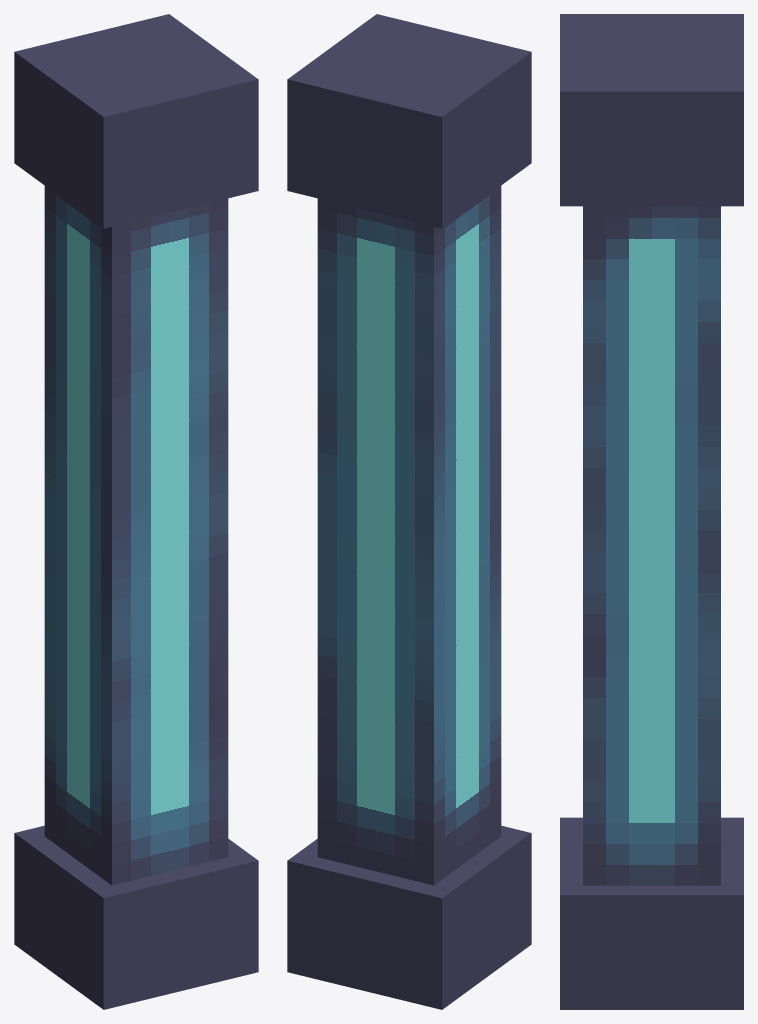
The model's file is columna.gltf.
3 renders of one model, left to right at view 1: azimuth 30°, elevation 25°; view 2: azimuth 150°, elevation 25°; view 3: azimuth 270°, elevation 25°, orthographic. The views are drawn at different scales.
Parts seen in each view (by area): view 1: mesh; view 2: mesh; view 3: mesh.
Part boxes in pixels (bbox=[...]): mesh: bbox=[14, 14, 258, 1009]; mesh: bbox=[287, 14, 531, 1009]; mesh: bbox=[560, 14, 743, 1009].
Bounding box in the file's own units: 0.4987 × 2.75 × 0.4987.
Materials: 1 (1 with a texture image).
